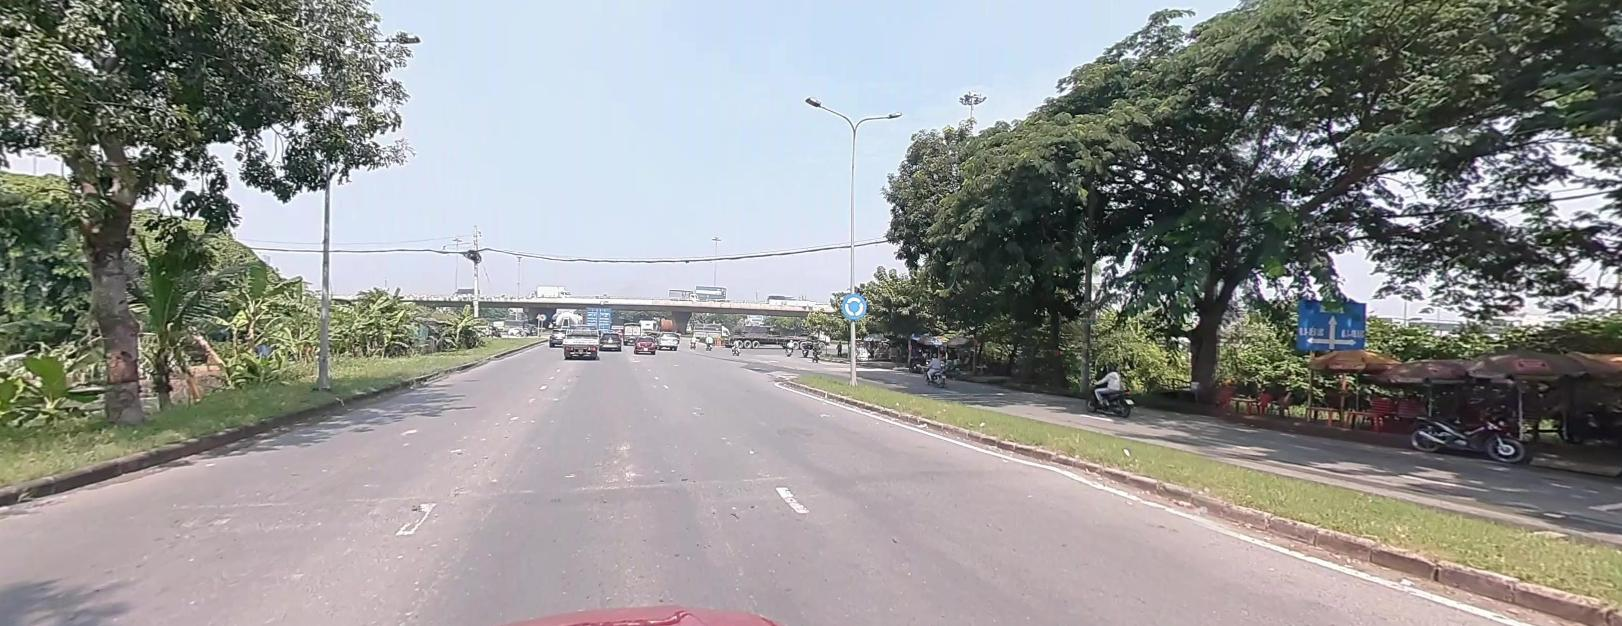Hieu lenh: (840, 291, 866, 318)
